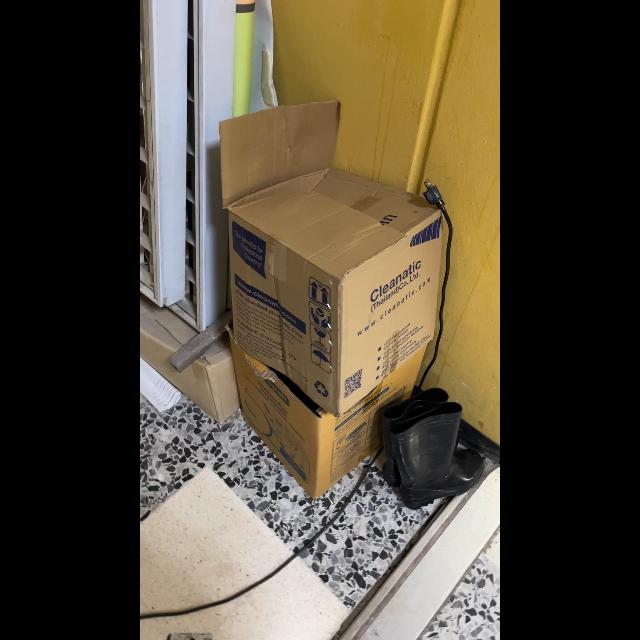cardboard_box: (216, 100, 452, 414), (228, 324, 432, 498)
